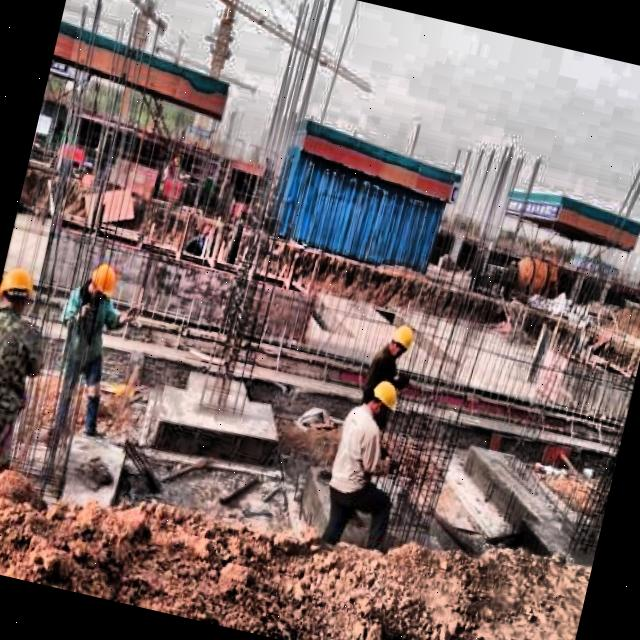helmet: (0, 259, 43, 324), (361, 375, 409, 430), (78, 256, 124, 308), (379, 316, 416, 362)
